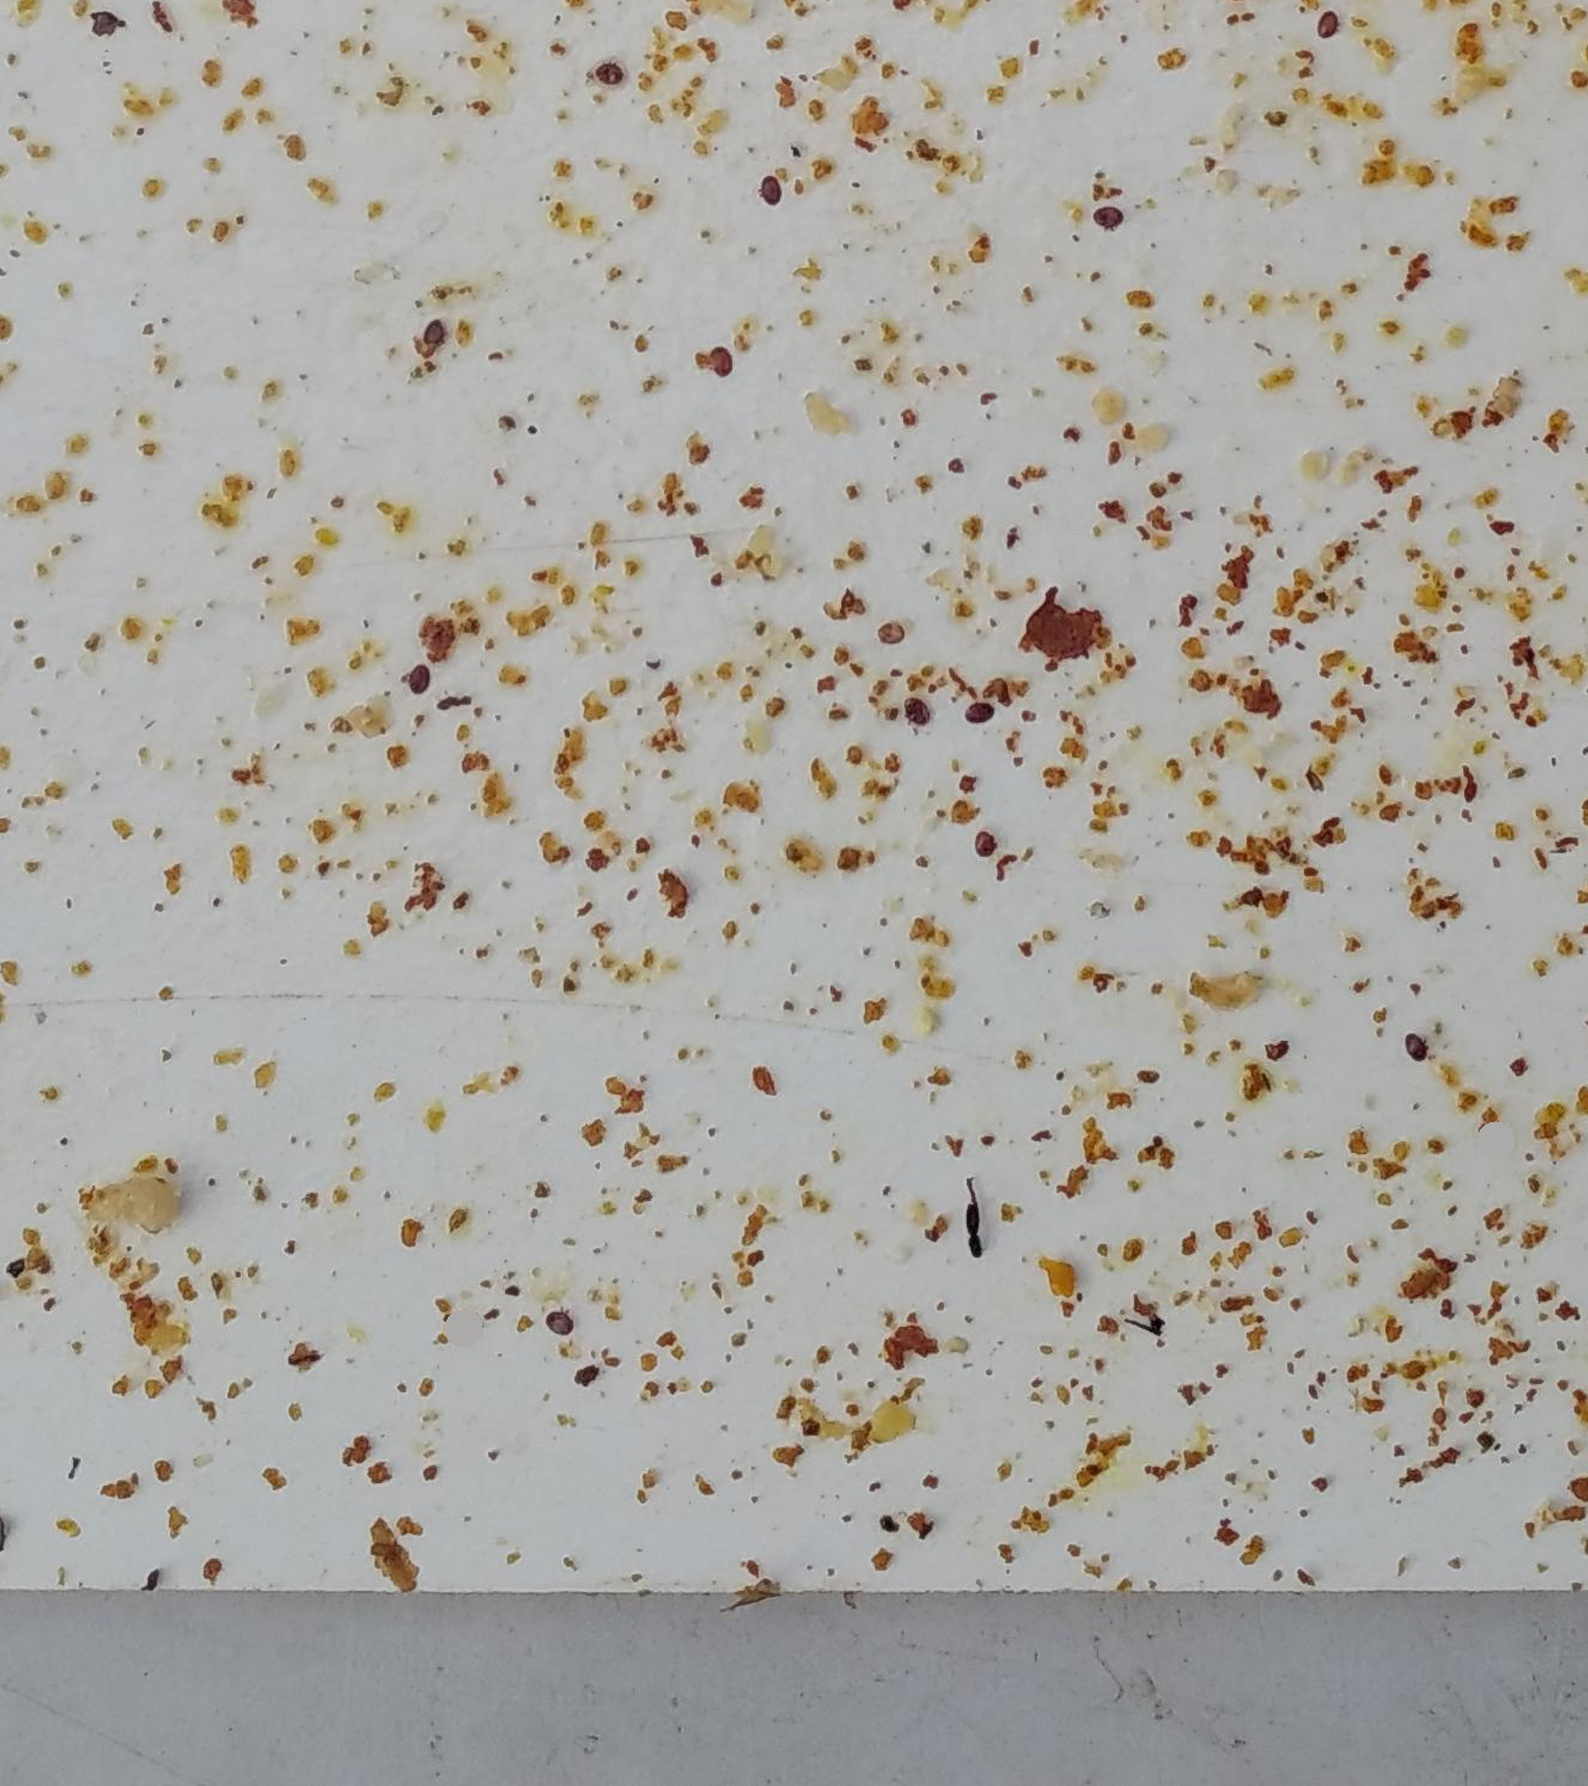Varroa: (400, 662, 429, 693), (704, 343, 733, 373), (1314, 11, 1343, 40), (966, 699, 993, 730), (972, 829, 999, 855), (1091, 205, 1119, 231), (904, 699, 930, 727), (418, 323, 445, 350), (544, 1311, 569, 1337), (1401, 1036, 1426, 1062), (602, 67, 627, 94), (872, 621, 897, 645), (759, 181, 782, 205)
